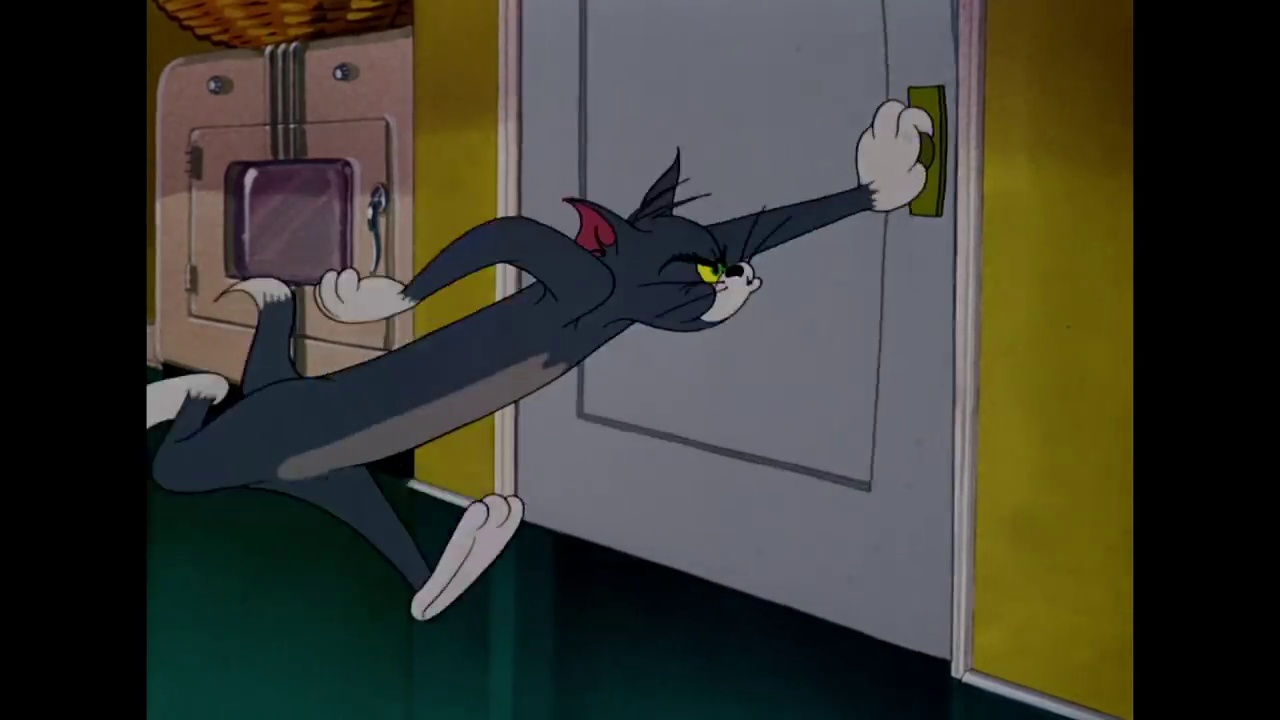tom: (557, 146, 763, 340)
